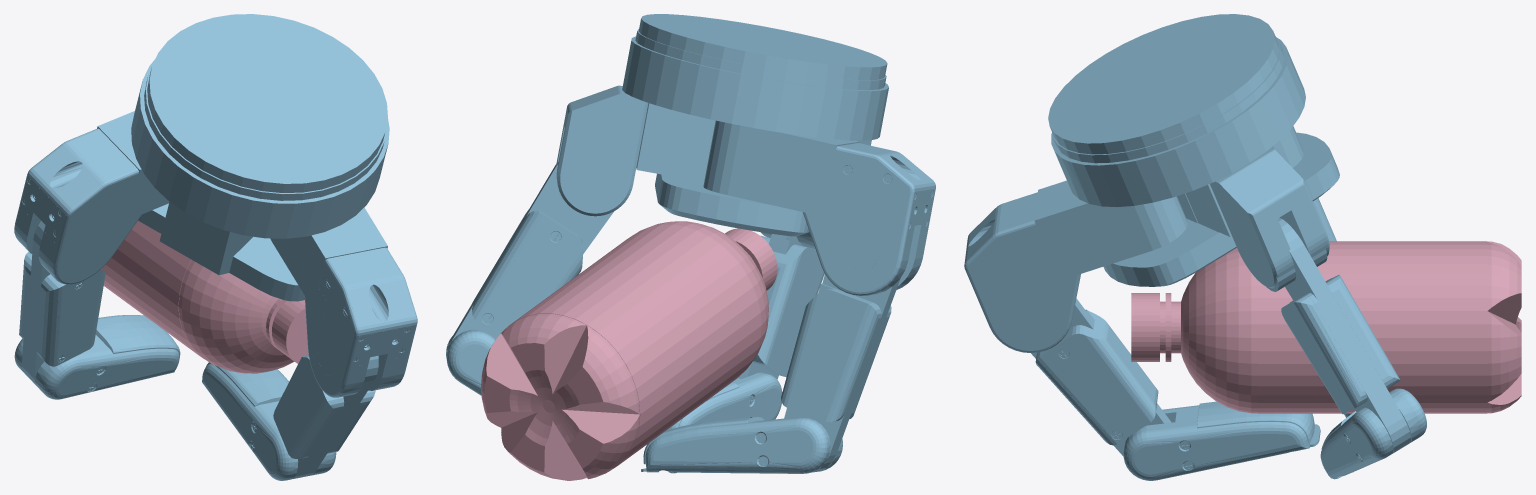
3 views of the same model, side by side, from view 1: azimuth 30°, elevation 25°; view 2: azimuth 150°, elevation 25°; view 3: azimuth 270°, elevation 25° (orthographic). The views are drawn at different scales.
Visible parts, largest first — view 1: world; view 2: world; view 3: world.
Part boxes in pixels (<box>): world: <box>14,14,417,480</box>; world: <box>446,14,935,480</box>; world: <box>964,14,1521,480</box>.
Bounding box in the file's own units: 0.1582 × 0.1619 × 0.1948.
